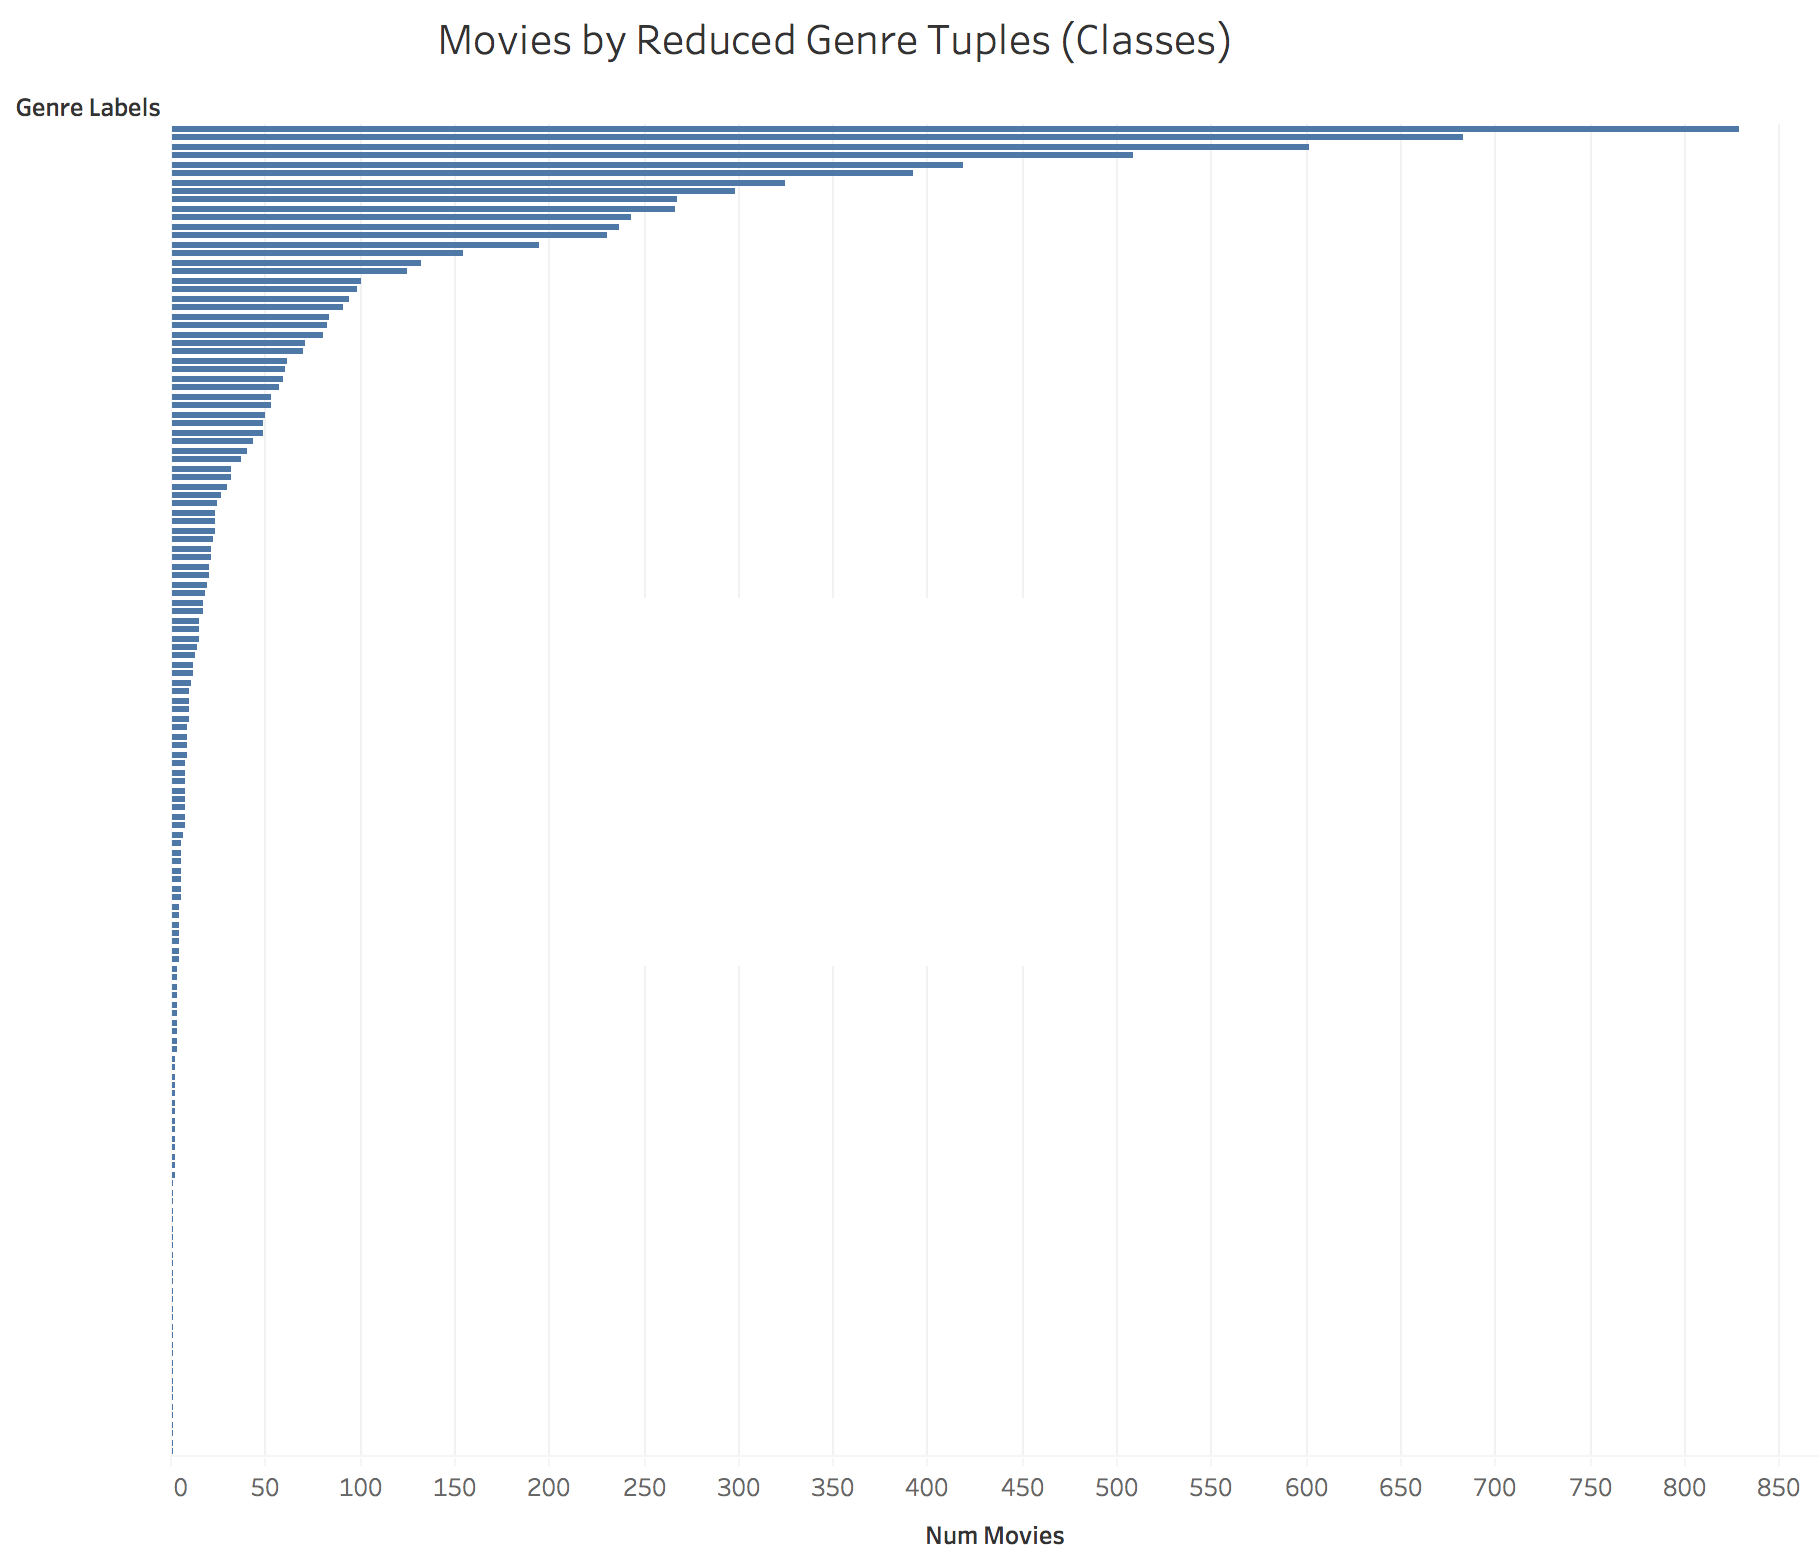

Layout of this report page (visuals, bound fields, positions):
{"tool":"tableau","page":{"name":"Dashboard 2","canvas":[1000,800],"ordinal":1},"visuals":[{"type":"worksheet","title":"Sheet 2","mark":"Bar","rows":["genre_labels"],"cols":["num_movies"],"box":[0,0,1000,800]}]}

Visuals, with their boxes on the page's 1000x800 design canvas (x1, y1, x2, y2). These are canvas units, not pixel positions in the 1819x1566 screenshot, which may show the page scaled, cropped or inside an application window:
"Sheet 2" worksheet (Bar marks): 0/0/1000/800
